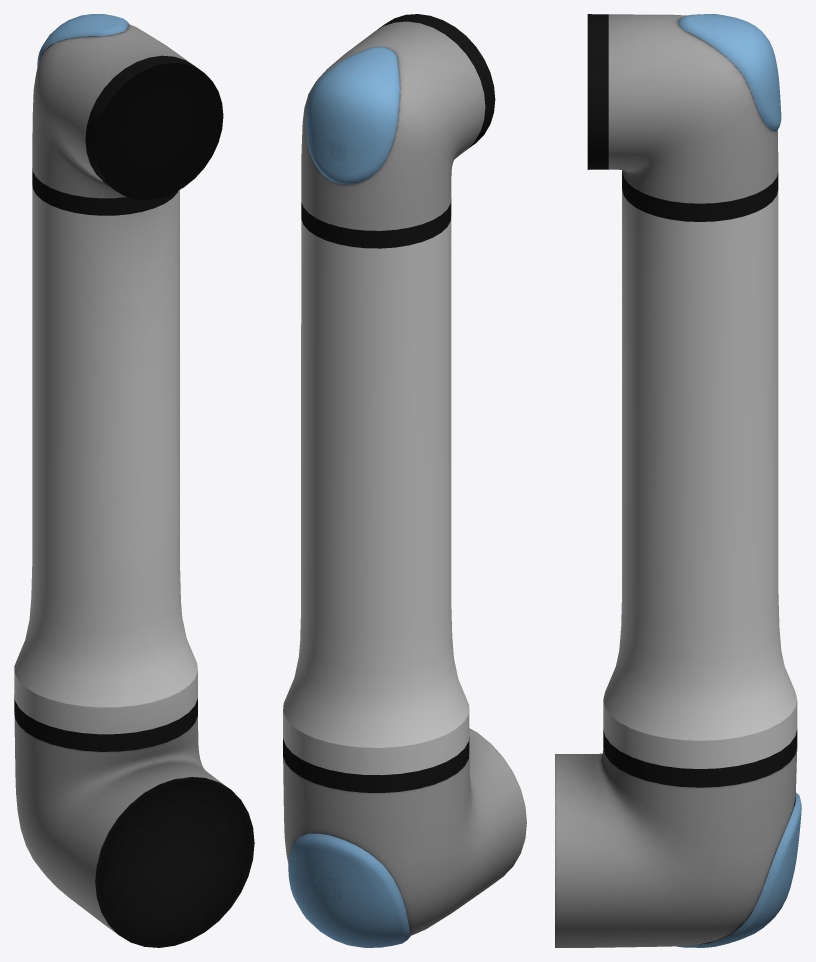
Rendered from upperarm.dae.
3 renders of one model, left to right at view 1: azimuth 30°, elevation 25°; view 2: azimuth 150°, elevation 25°; view 3: azimuth 270°, elevation 25°, orthographic. The views are drawn at different scales.
Visible parts, largest first — view 1: shoulder_001, shoulder_pad_001; view 2: shoulder_001, shoulder_pad_001, shoulder_pad_002; view 3: shoulder_001, shoulder_pad_001, shoulder_pad_002.
Part boxes in pixels (box(x1,y1,x2,y2)): shoulder_001: box(14, 24, 254, 947); shoulder_pad_001: box(37, 14, 129, 66); shoulder_001: box(283, 14, 526, 935); shoulder_pad_001: box(306, 46, 399, 184); shoulder_pad_002: box(288, 833, 410, 947); shoulder_001: box(555, 14, 797, 947); shoulder_pad_001: box(678, 14, 781, 131); shoulder_pad_002: box(676, 792, 801, 947).
Size of the model in its own units: 0.15 by 0.1907 by 0.7872.
4 materials, 4 textured.
